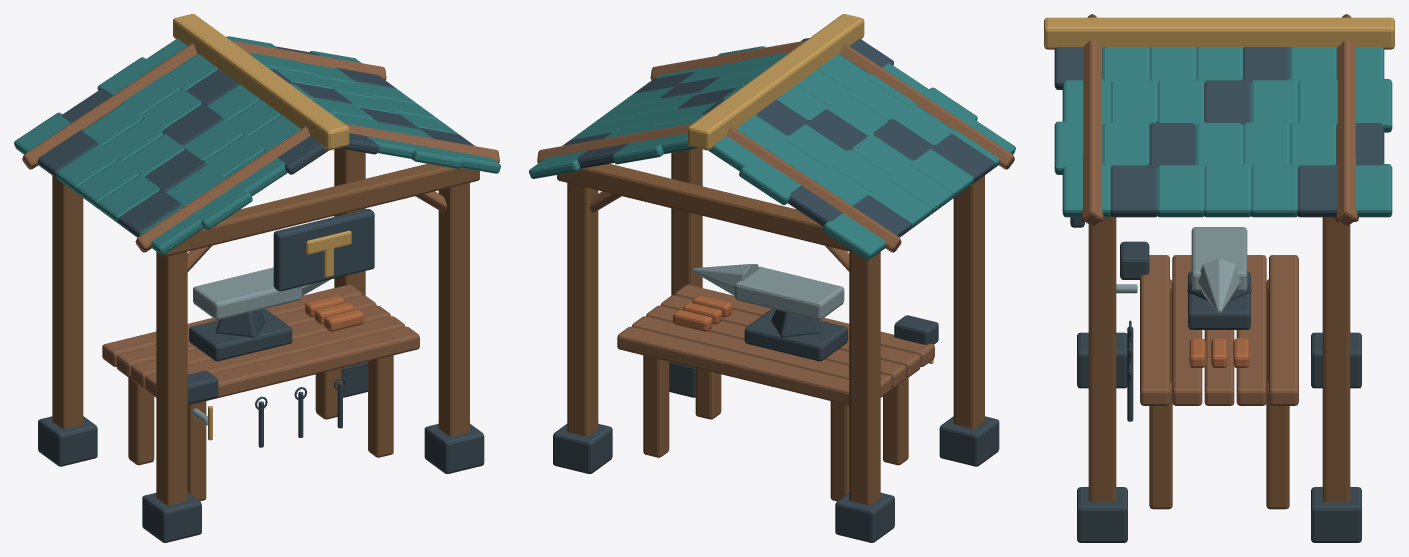
File: workshop.glb
3 renders of one model, left to right at view 1: azimuth 30°, elevation 25°; view 2: azimuth 150°, elevation 25°; view 3: azimuth 270°, elevation 25°, orthographic. The views are drawn at different scales.
Visible parts, largest first — view 1: OakPost.005, TealRoofShingle.059, PostBrace.005, TealRoofShingle.058, StonePostShoe.005, RidgeCap.002, AnvilFace.002, CopperIngot.004; view 2: OakPost.005, TealRoofShingle.059, PostBrace.005, StonePostShoe.005, TealRoofShingle.058, RidgeCap.002, AnvilFace.002, CopperIngot.004; view 3: TealRoofShingle.059, PostBrace.005, OakPost.005, TealRoofShingle.058, StonePostShoe.005, RidgeCap.002, AnvilFace.002, CopperIngot.004.
Part boxes in pixels (x1,y1,x2,y2): OakPost.005: (52,148,479,505); TealRoofShingle.059: (14,36,500,255); PostBrace.005: (22,40,499,405); TealRoofShingle.058: (38,46,474,291); StonePostShoe.005: (38,309,484,542); RidgeCap.002: (173,14,351,440); AnvilFace.002: (192,267,330,425); CopperIngot.004: (305,295,363,331); OakPost.005: (557,148,984,505); TealRoofShingle.059: (529,46,1015,260); PostBrace.005: (537,40,1014,405); StonePostShoe.005: (553,309,999,542); TealRoofShingle.058: (562,38,994,237); RidgeCap.002: (688,14,933,363); AnvilFace.002: (693,264,844,319); CopperIngot.004: (673,295,732,331); TealRoofShingle.059: (1054,47,1392,217); PostBrace.005: (1081,14,1357,405); OakPost.005: (1080,216,1358,509); TealRoofShingle.058: (1054,47,1384,227); StonePostShoe.005: (1077,241,1361,542); RidgeCap.002: (1044,17,1394,49); AnvilFace.002: (1116,227,1247,313); CopperIngot.004: (1189,338,1249,367).
Bounding box in the file's own units: 3.2 × 3.28 × 2.4.
